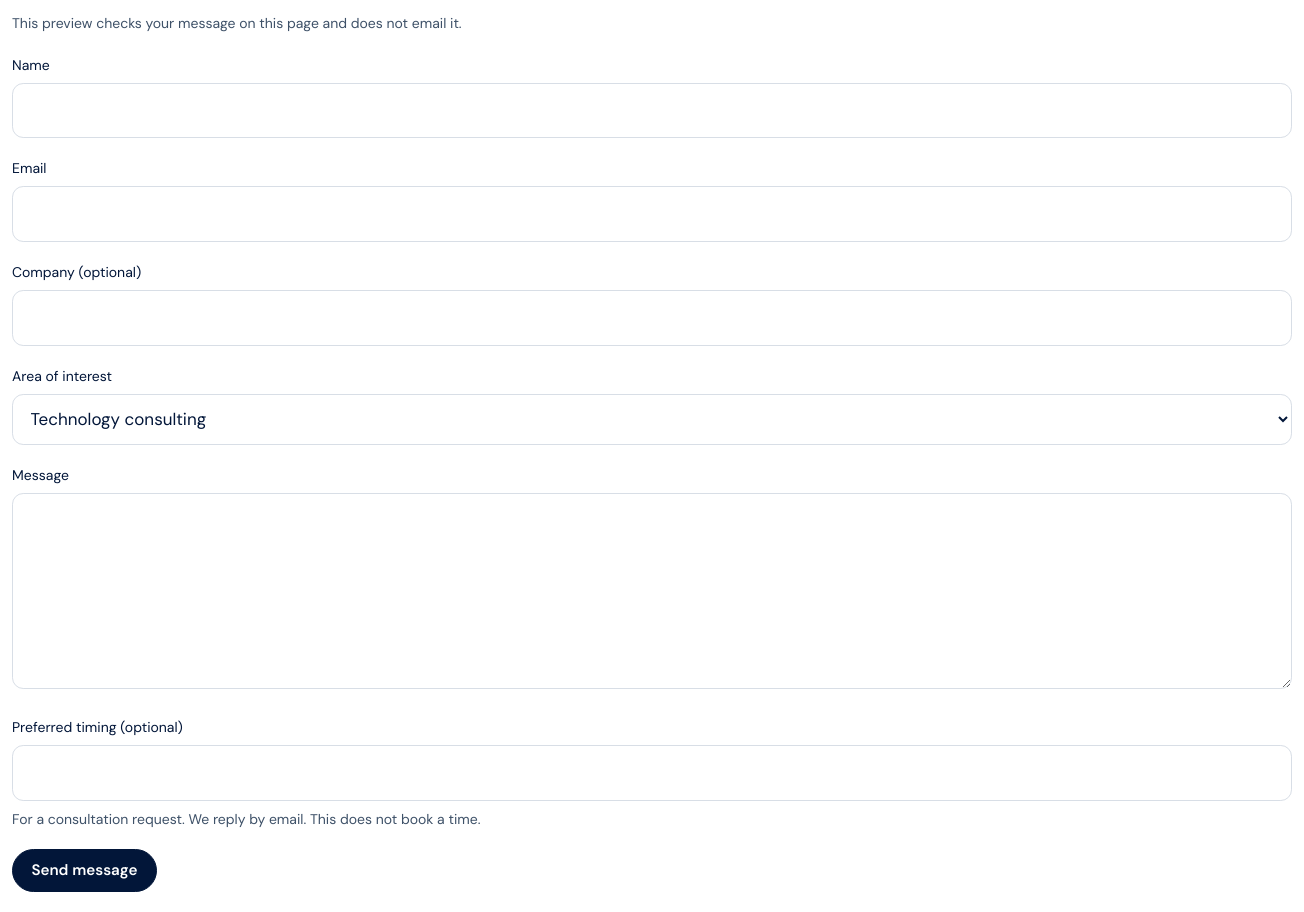
Test: ContactForm › labels a local acceptance as not emailed
The image size is (1304, 912).
Step 1. Type "Ada Lovelace" into the field labelled "Name" → coordinates (652, 111), box x1=12 y1=83 x2=1292 y2=138
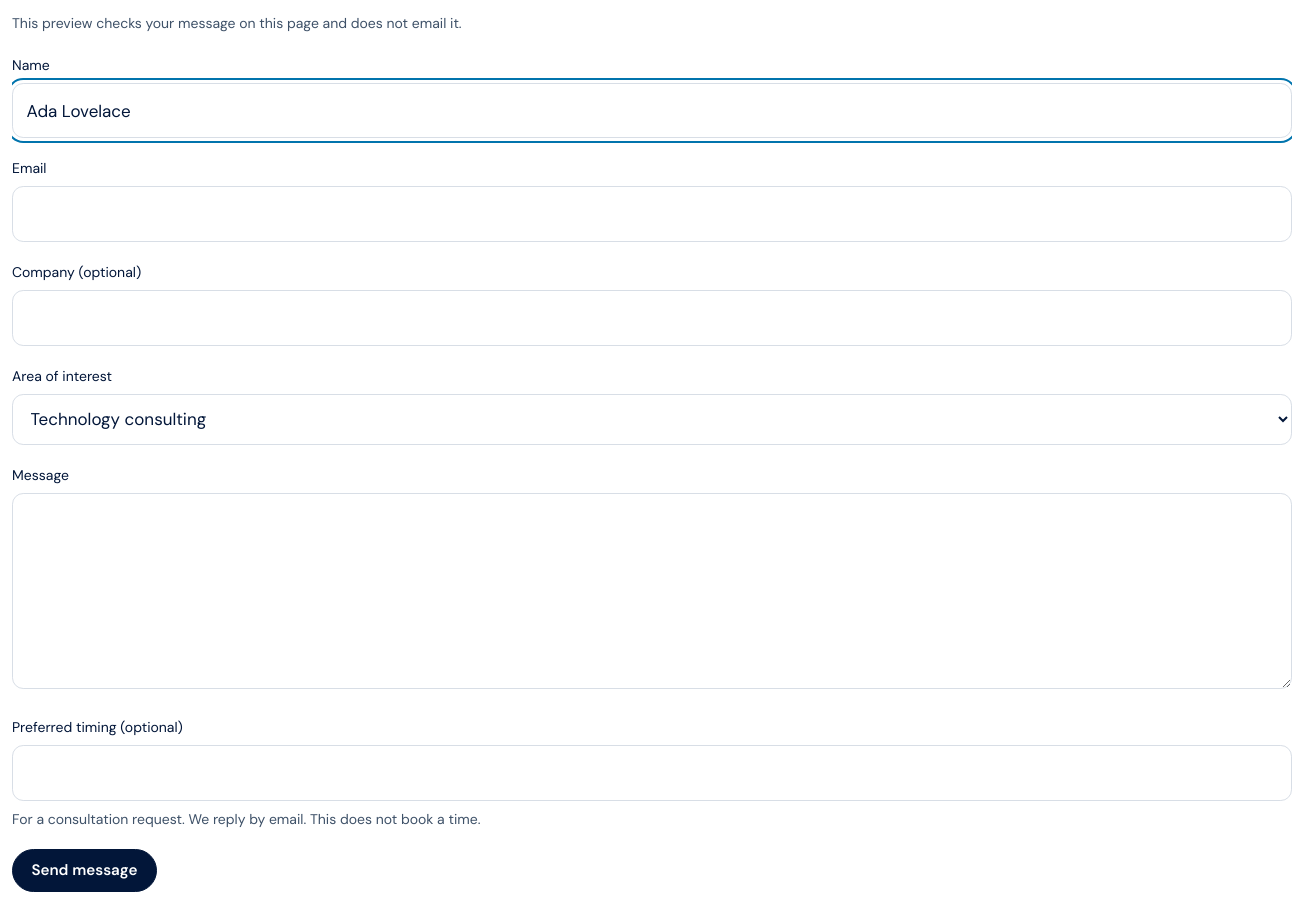
Step 2. Type "ada@example.com" into the field labelled "Email" → coordinates (652, 214), box x1=12 y1=186 x2=1292 y2=242
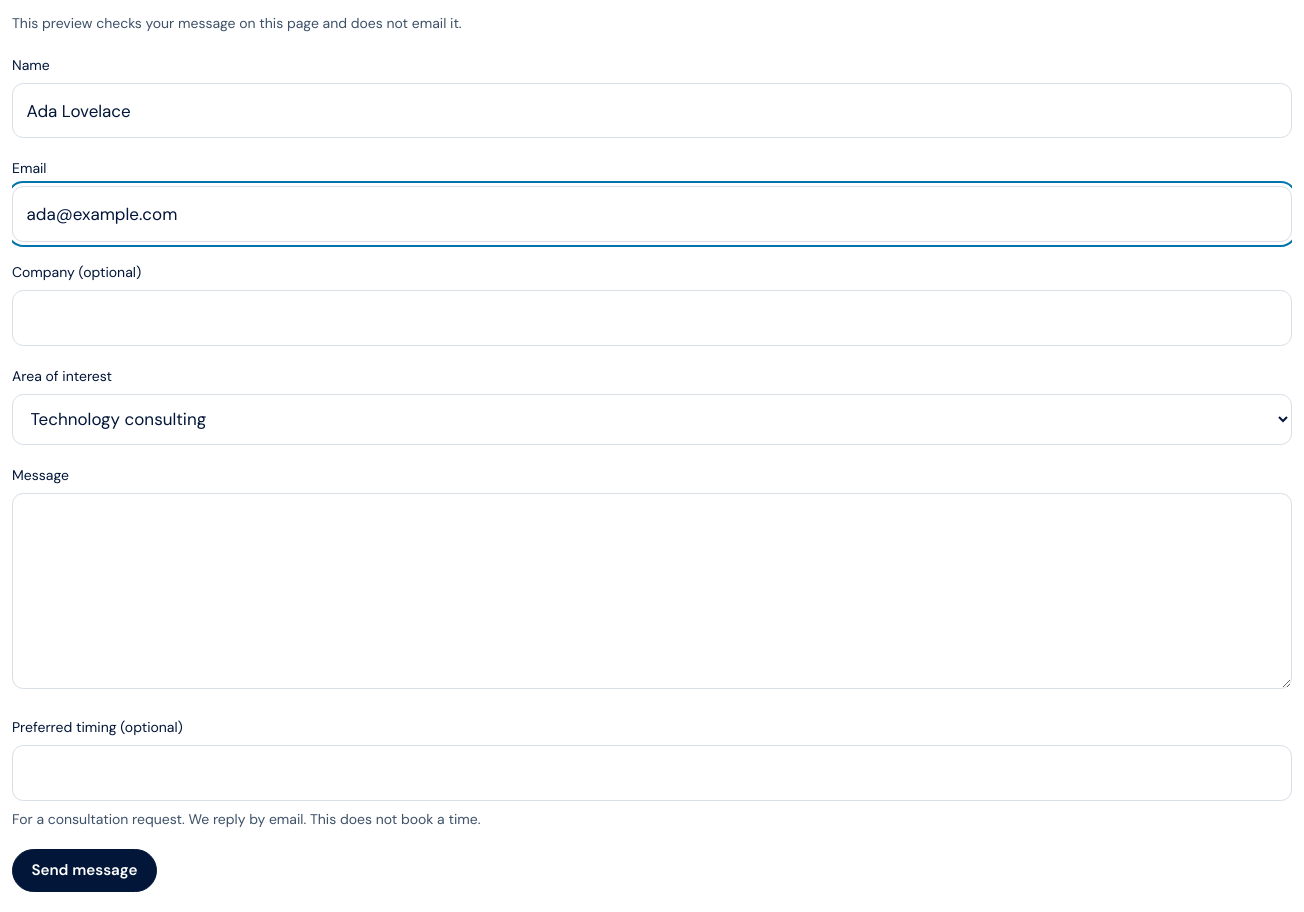
Step 3. Type "We need help sorting out our support." into the text box labelled "Message" → coordinates (652, 591), box x1=12 y1=493 x2=1292 y2=689
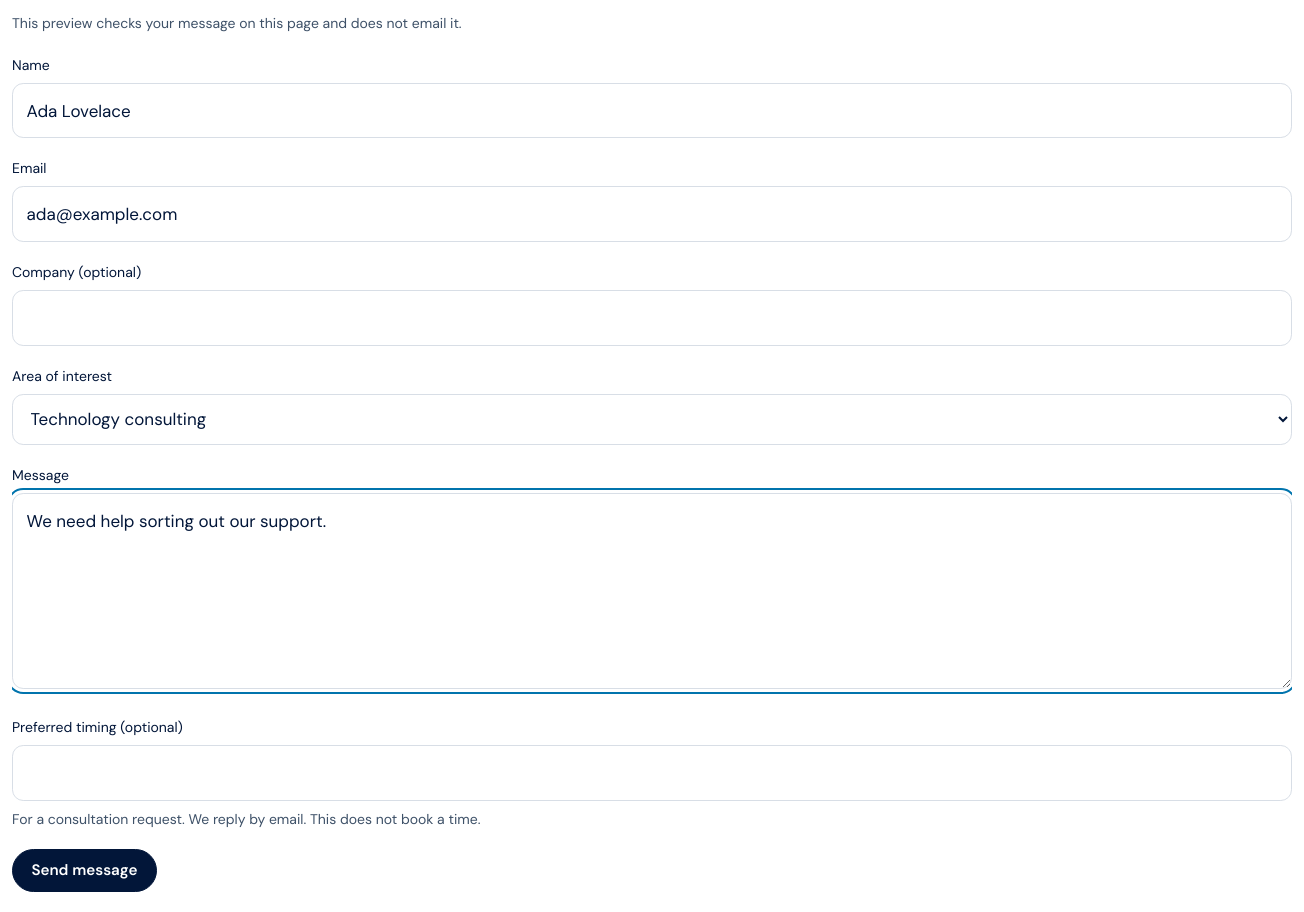
Step 4. Click the button "Send message" → coordinates (84, 870), box x1=12 y1=849 x2=157 y2=892
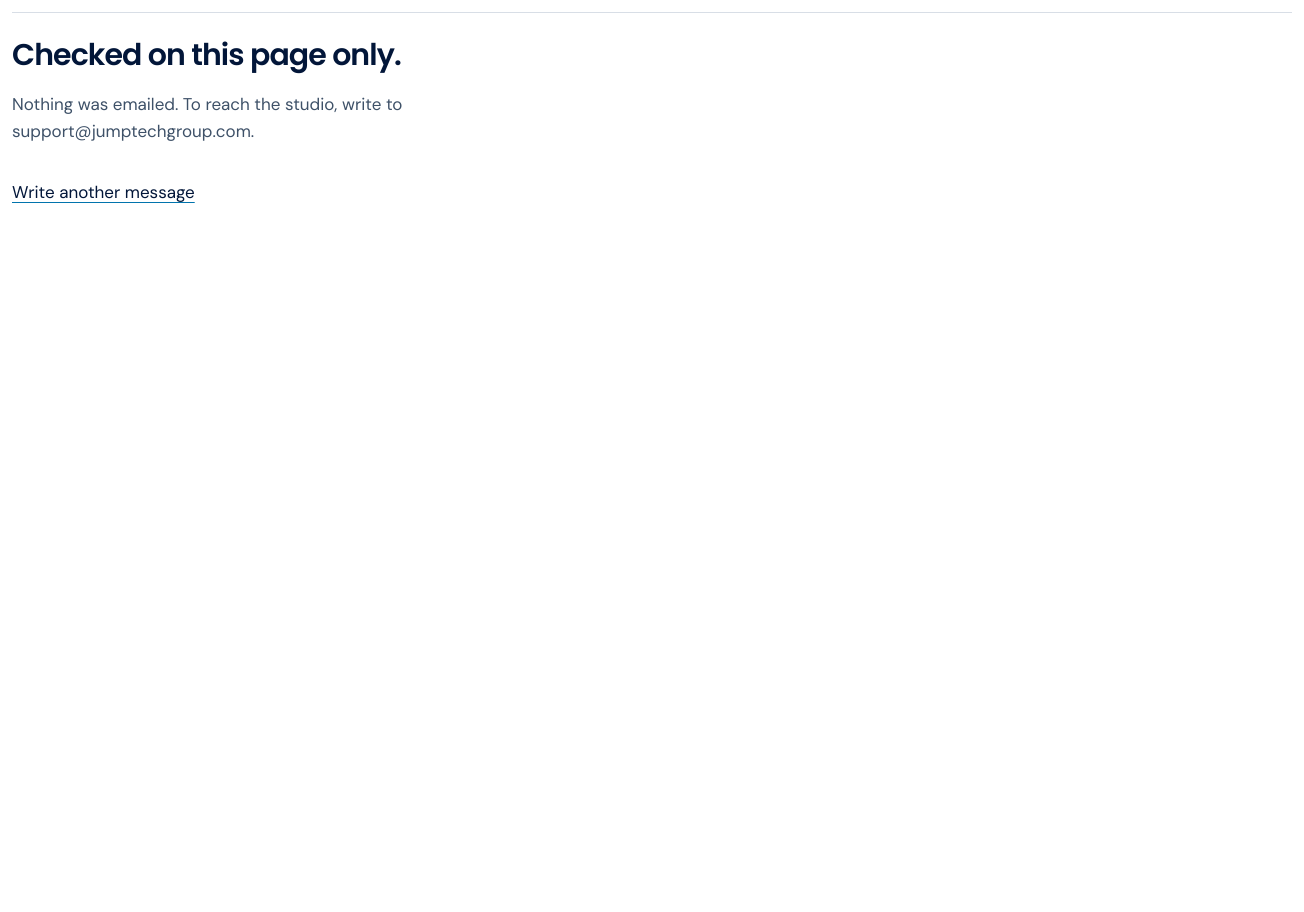
Check: the text "Nothing was emailed" is shown, box x1=12 y1=92 x2=402 y2=142
